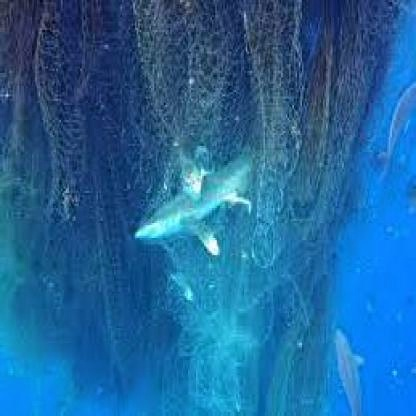net: (2, 6, 403, 268)
